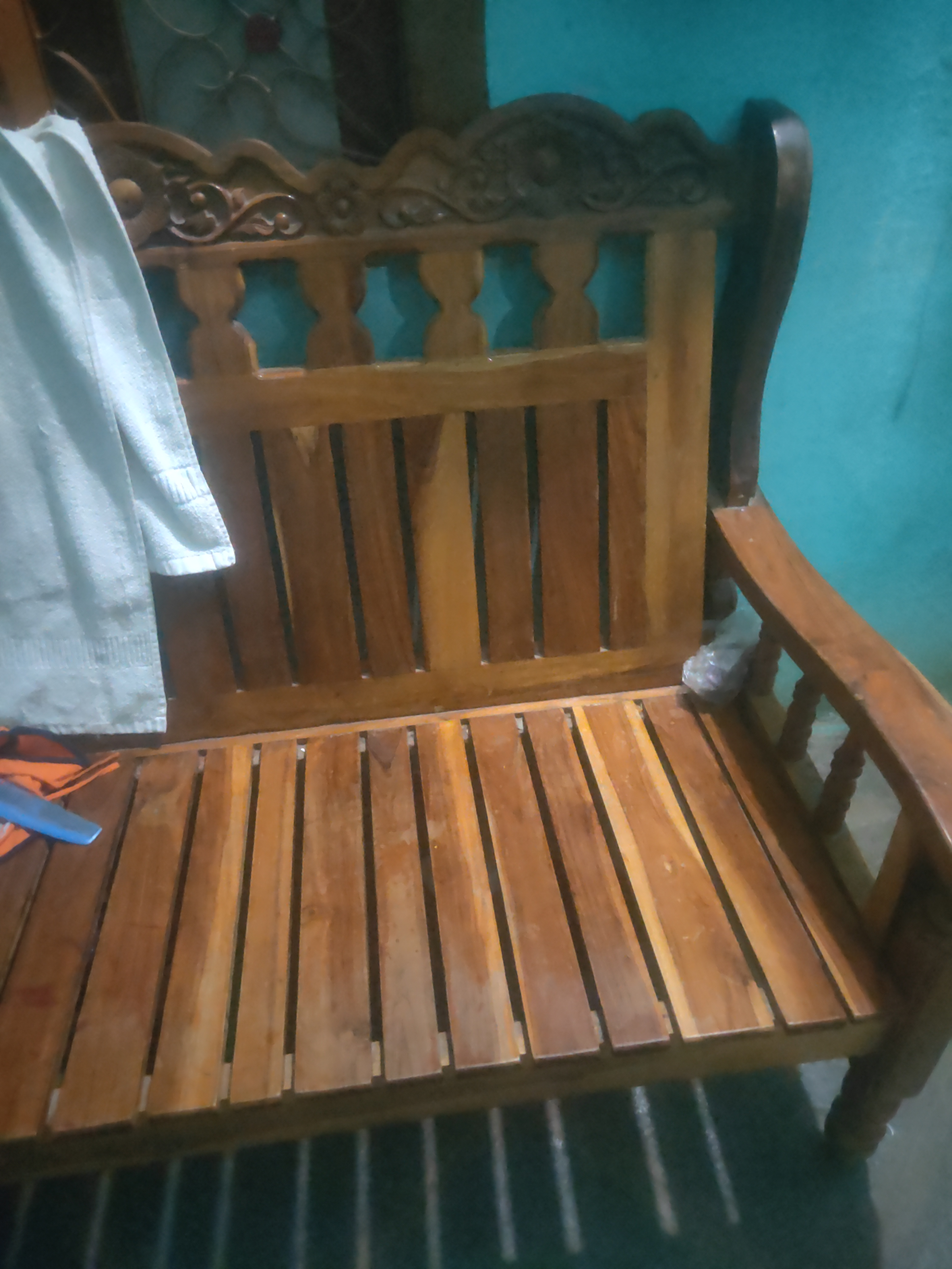sofa: (0, 97, 952, 1208)
